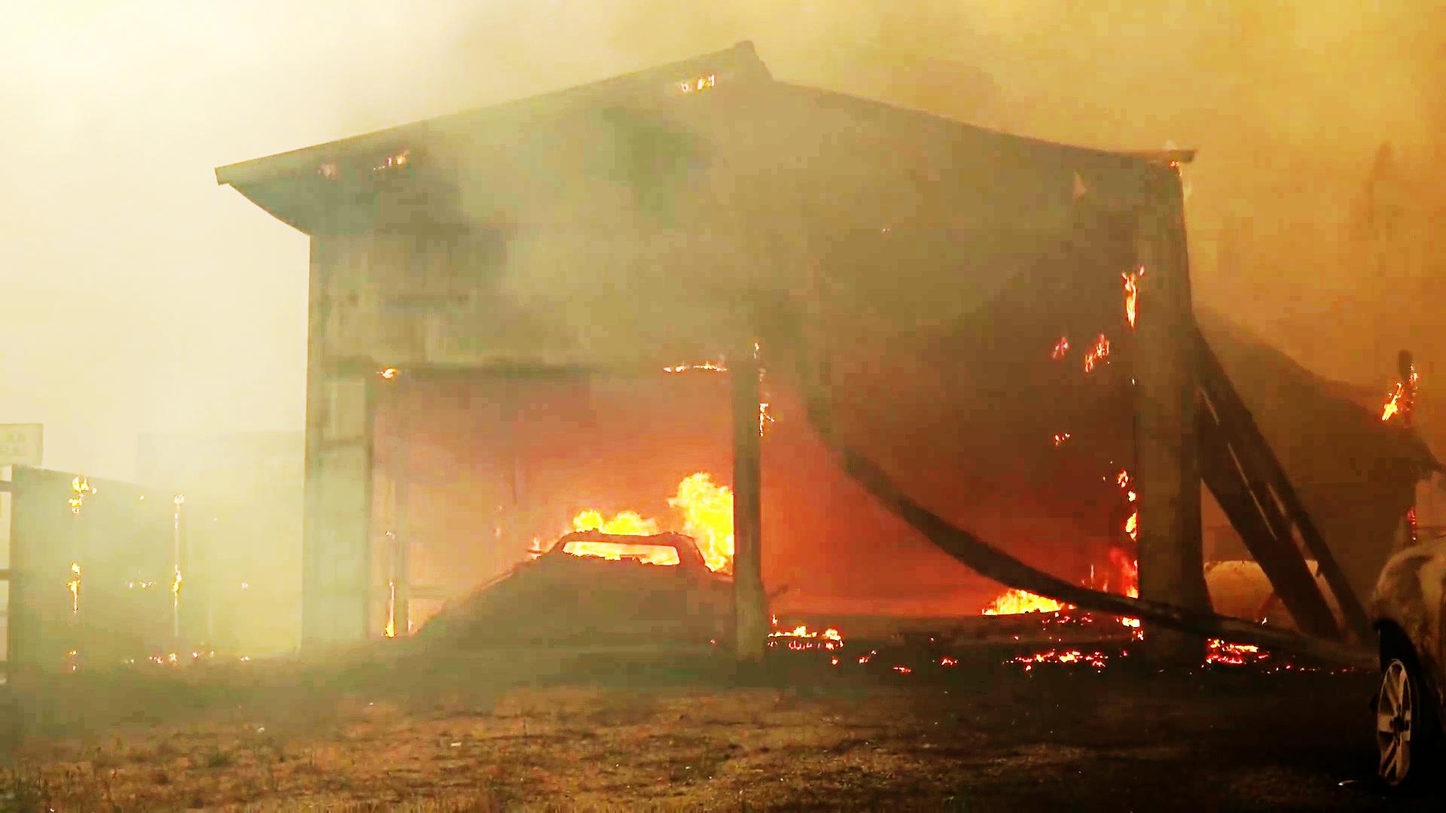smoke: (577, 469, 751, 572)
